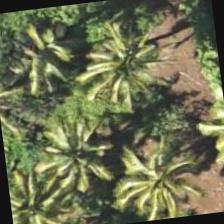Kelapa_Sawit: (1, 11, 102, 111), (72, 19, 172, 119), (30, 106, 130, 206), (104, 139, 204, 223), (6, 162, 80, 223)
